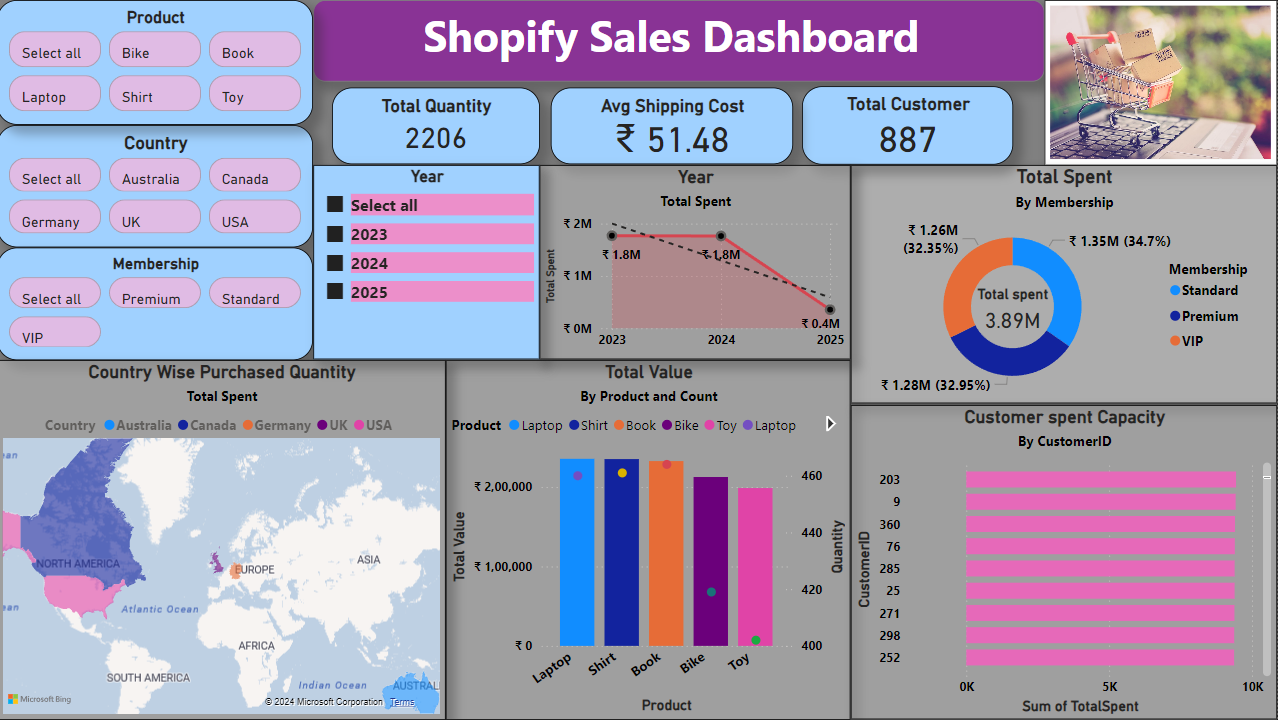

Layout of this report page (visuals, bound fields, positions):
{"tool":"powerbi","page":{"name":"Dashboard","canvas":[1280,720],"ordinal":1},"visuals":[{"type":"textbox","box":[316.2,0,731.2,81.2],"z":0},{"type":"image","box":[1047.4,0,232.6,165.4],"z":1000},{"type":"advancedSlicerVisual","fields":{"Values":["Customer.Country"]},"box":[0,125,316.2,122.5],"z":2000},{"type":"advancedSlicerVisual","fields":{"Values":["Customer.Membership"]},"box":[0,247.5,316.2,112.5],"z":3000},{"type":"advancedSlicerVisual","fields":{"Values":["Ecom dataset1 (2).Product"]},"box":[0,0,316.2,125],"z":4000},{"type":"lineStackedColumnComboChart","title":"Total Value","fields":{"Category":["Ecom dataset1 (2).Product"],"Y":["Sum(Ecom dataset1 (2).Total_Value)"],"Y2":["Sum(Ecom dataset1 (2).Quantity)"],"Series":["Ecom dataset1 (2).Product"]},"box":[448.8,360,405,360],"z":5000},{"type":"filledMap","title":"Country Wise Purchased Quantity","fields":{"Series":["Customer.Country"],"Category":["Customer.Country"]},"box":[0,360,448.8,360],"z":6000},{"type":"donutChart","title":"Total Spent ","fields":{"Category":["Customer.Membership"],"Y":["Sum(Customer.TotalSpent)"]},"box":[853.8,165,426.2,238.8],"z":7000},{"type":"card","title":"Total Customer","fields":{"Values":["CountNonNull(Ecom dataset1 (2).CustomerID)"]},"box":[804.8,85.8,211.5,78.4],"z":8000},{"type":"card","title":"Total Quantity","fields":{"Values":["Sum(Ecom dataset1 (2).Quantity)"]},"box":[334.6,87.1,207.7,77.1],"z":10000},{"type":"card","title":"Avg Shipping Cost","fields":{"Values":["Avg(Ecom dataset1 (2).ShippingCost)"]},"box":[553.6,87.1,242.6,77.1],"z":11000},{"type":"barChart","title":"Customer spent Capacity","fields":{"Y":["Sum(Customer.TotalSpent)"],"Category":["Customer.CustomerID"]},"box":[853.4,405.5,426.7,314.7],"z":12000},{"type":"lineChart","title":" Year","fields":{"Category":["Customer.Year"],"Y":["Sum(Customer.TotalSpent)"]},"box":[542.4,165.4,311,194.1],"z":13000},{"type":"slicer","title":"Year","fields":{"Values":["Customer.Year"]},"box":[316,165.4,226.4,194.1],"z":14000},{"type":"card","title":"Total spent","fields":{"Values":["Sum(Customer.TotalSpent)"]},"box":[937.9,284.9,156.7,58.5],"z":15000}]}

Visuals, with their boxes in screenshot pixels (x1, y1, x2, y2), scaled from the page's 1280x720 canvas onto the 1278x720 screenshot:
textbox: Rect(316, 0, 1046, 81)
image: Rect(1046, 0, 1277, 165)
advancedSlicerVisual - Customer.Country: Rect(0, 125, 316, 248)
advancedSlicerVisual - Customer.Membership: Rect(0, 248, 316, 360)
advancedSlicerVisual - Ecom dataset1 (2).Product: Rect(0, 0, 316, 125)
"Total Value" lineStackedColumnComboChart: Rect(448, 360, 852, 719)
"Country Wise Purchased Quantity" filledMap: Rect(0, 360, 448, 719)
"Total Spent " donutChart: Rect(852, 165, 1277, 404)
"Total Customer" card: Rect(804, 86, 1015, 164)
"Total Quantity" card: Rect(334, 87, 541, 164)
"Avg Shipping Cost" card: Rect(553, 87, 795, 164)
"Customer spent Capacity" barChart: Rect(852, 406, 1277, 719)
" Year" lineChart: Rect(542, 165, 852, 360)
"Year" slicer: Rect(316, 165, 542, 360)
"Total spent" card: Rect(936, 285, 1093, 343)
